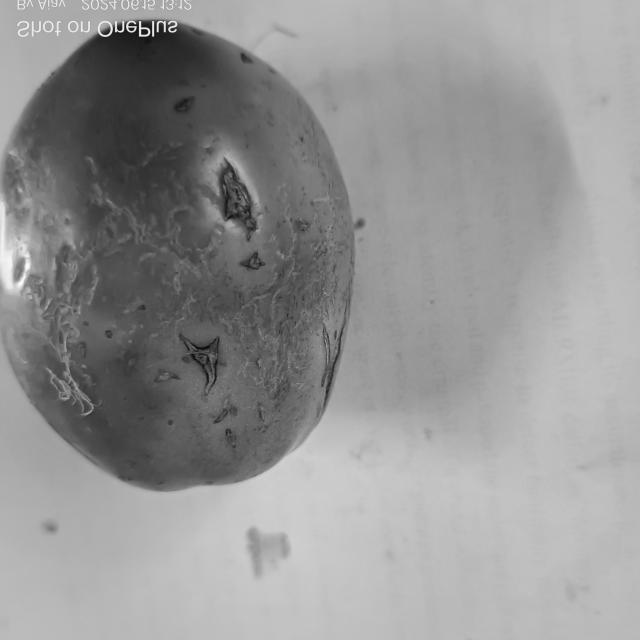Bacterial_Spot: (216, 164, 269, 274), (178, 325, 226, 389), (211, 402, 242, 464), (170, 92, 194, 115)
